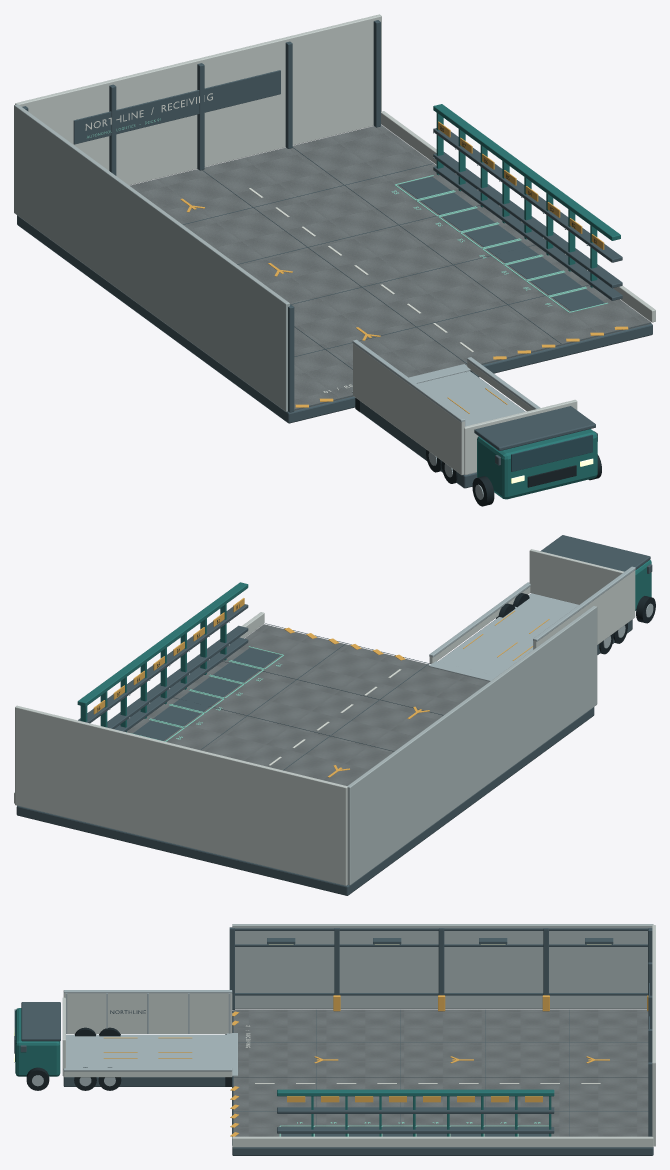
Rendered from environment.glb.
3 renders of one model, top to bottom at view 1: azimuth 30°, elevation 25°; view 2: azimuth 150°, elevation 25°; view 3: azimuth 270°, elevation 25°, orthographic. The views are drawn at different scales.
Visible parts, largest first — view 1: environment_static_WH_floor, environment_static_WH_wall-light, environment_static_WH_slate, environment_static_WH_wall, environment_static_WH_teal, environment_static_WH_alloy, environment_static_WH_amber, environment_static_WH_dark, environment_static_WH_glass, environment_static_WH_mint, environment_static_WH_white; view 2: environment_static_WH_wall-light, environment_static_WH_floor, environment_static_WH_wall, environment_static_WH_slate, environment_static_WH_alloy, environment_static_WH_teal, environment_static_WH_amber, environment_static_WH_dark, environment_static_WH_mint; view 3: environment_static_WH_floor, environment_static_WH_wall, environment_static_WH_slate, environment_static_WH_wall-light, environment_static_WH_alloy, environment_static_WH_teal, environment_static_WH_amber, environment_static_WH_dark, environment_static_WH_mint.
Boxes of the visible parts, x1,y1,x2,y2 form: environment_static_WH_floor: (130, 125, 650, 410); environment_static_WH_wall-light: (15, 14, 655, 475); environment_static_WH_slate: (17, 20, 652, 488); environment_static_WH_wall: (14, 104, 289, 411); environment_static_WH_teal: (433, 104, 620, 499); environment_static_WH_alloy: (352, 132, 587, 499); environment_static_WH_amber: (180, 121, 628, 413); environment_static_WH_dark: (355, 126, 601, 506); environment_static_WH_glass: (511, 434, 592, 471); environment_static_WH_mint: (87, 118, 608, 312); environment_static_WH_white: (85, 93, 473, 392); environment_static_WH_wall-light: (14, 549, 635, 885); environment_static_WH_floor: (127, 624, 489, 885); environment_static_WH_wall: (347, 606, 597, 885); environment_static_WH_slate: (16, 535, 652, 895); environment_static_WH_alloy: (109, 566, 653, 718); environment_static_WH_teal: (77, 560, 651, 732); environment_static_WH_amber: (93, 598, 549, 777); environment_static_WH_dark: (97, 593, 655, 711); environment_static_WH_mint: (130, 646, 283, 741); environment_static_WH_floor: (233, 1009, 648, 1136); environment_static_WH_wall: (232, 924, 653, 1008); environment_static_WH_slate: (20, 927, 653, 1155); environment_static_WH_wall-light: (62, 925, 655, 1147); environment_static_WH_alloy: (32, 990, 237, 1086); environment_static_WH_teal: (15, 1008, 554, 1136); environment_static_WH_amber: (103, 995, 648, 1136); environment_static_WH_dark: (14, 1027, 232, 1090); environment_static_WH_mint: (279, 1122, 548, 1136).
Size of the model in its own units: 12.18 by 3.97 by 23.62.
Materials: 12 (1 with a texture image).
